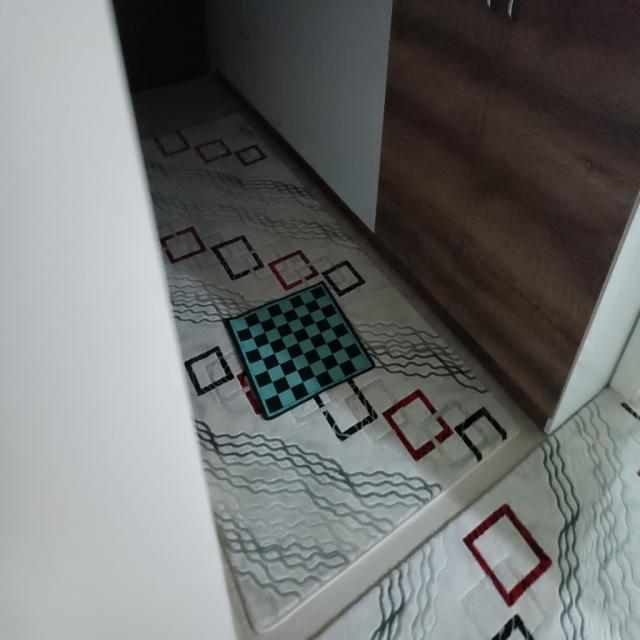corner: (364, 356, 374, 371), (315, 281, 326, 293), (229, 316, 237, 328), (267, 408, 274, 418)
